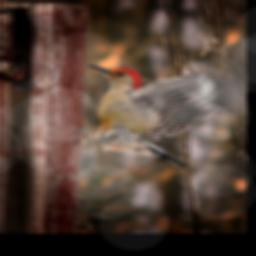Woodpecker: (86, 62, 243, 169)
